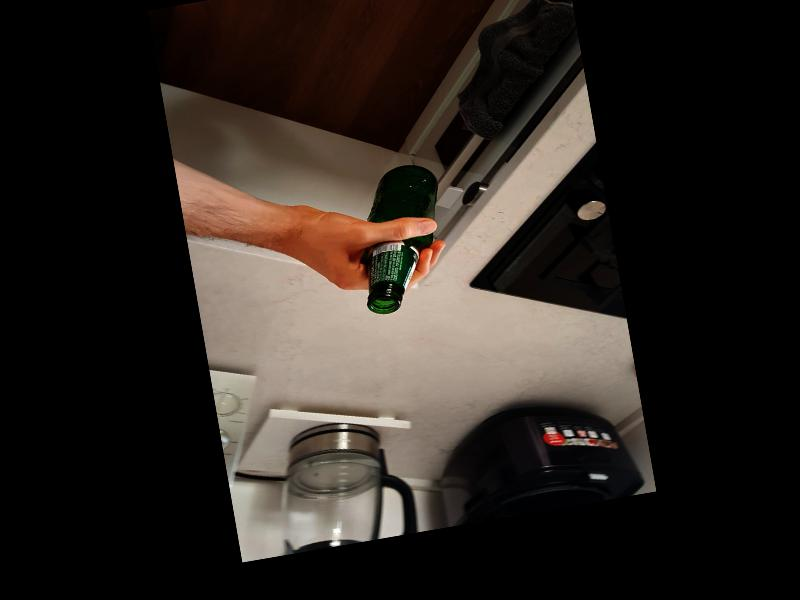Beer: (344, 159, 457, 316)
